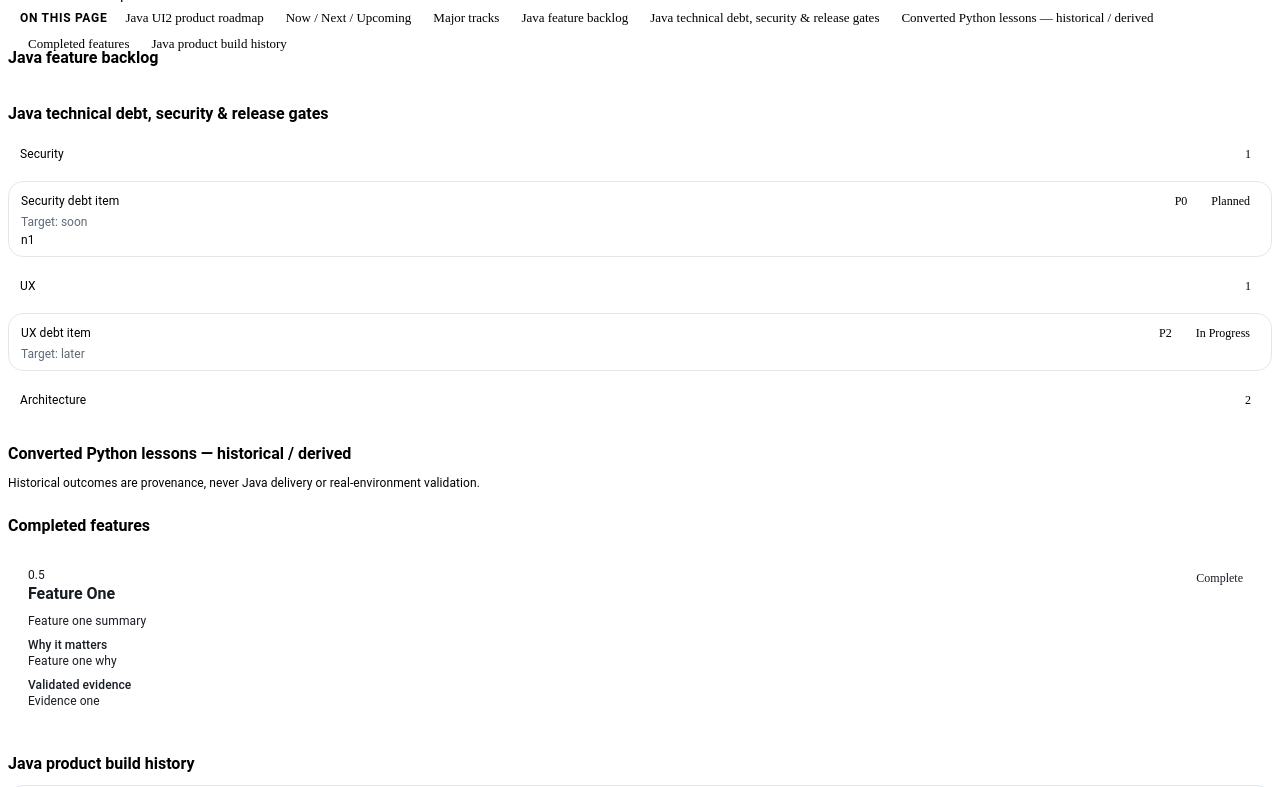
it: ProjectPlanPanel backlog grouping and expansion rule › collapses a category by default when it holds neither a P0 nor an in_progress row, and expands on click
(page scrolled)
Check: the text "Architecture debt item" is not shown
Click the button labelled "Architecture 2" at point(53, 400), box [20,393,1251,407]
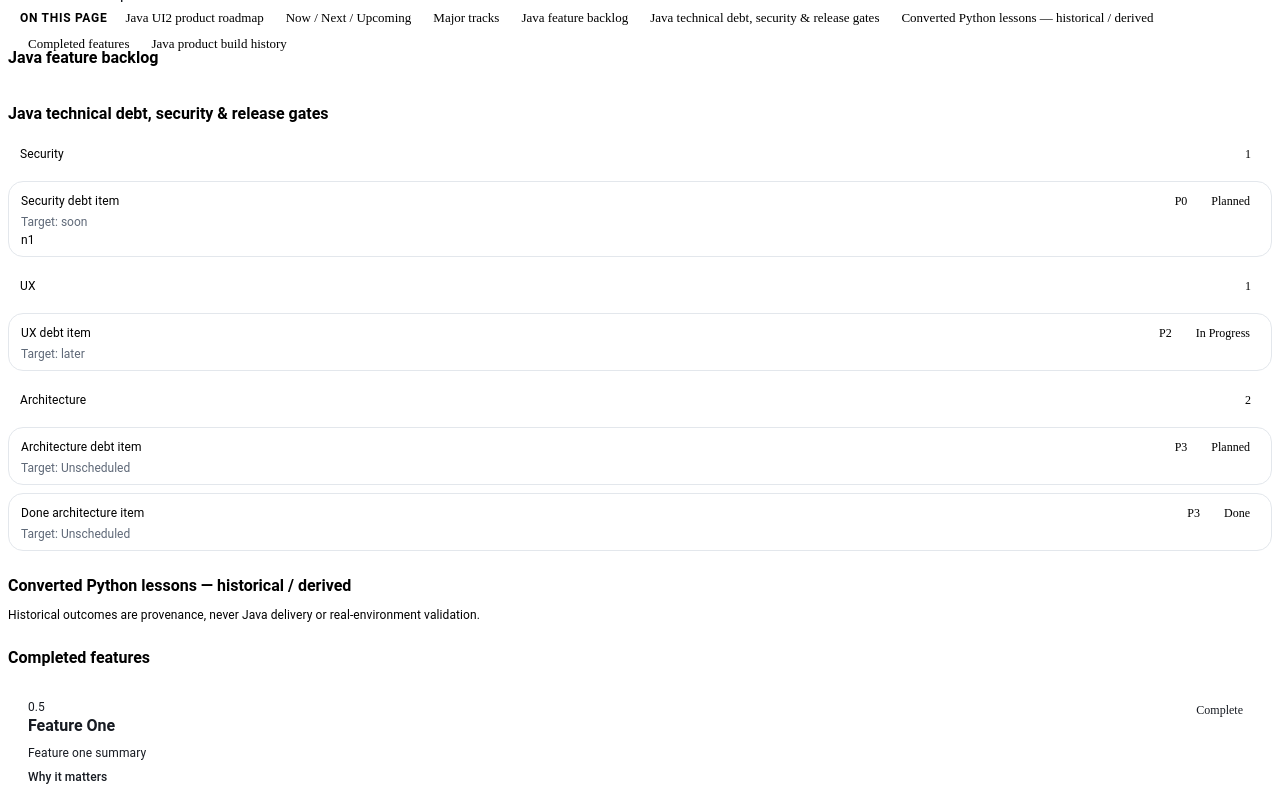
Check: the text "Architecture debt item" is shown, box [21,439,142,455]
Check: the text "Done architecture item" is shown, box [21,505,144,521]
